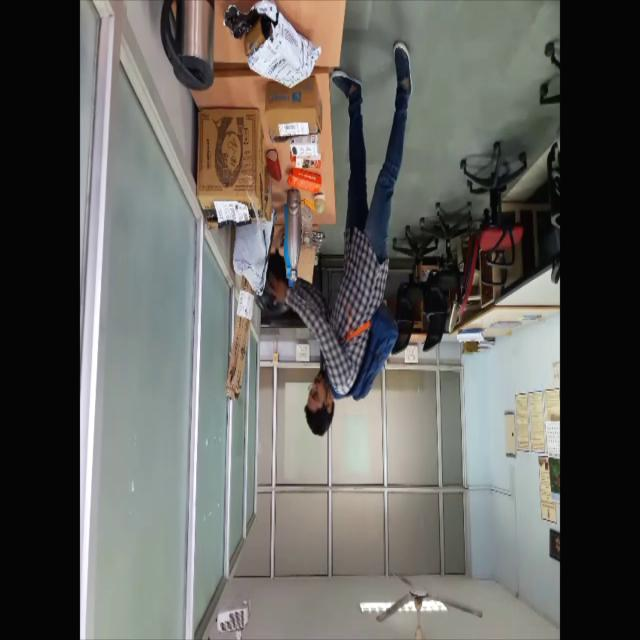normal: (252, 41, 414, 454)
